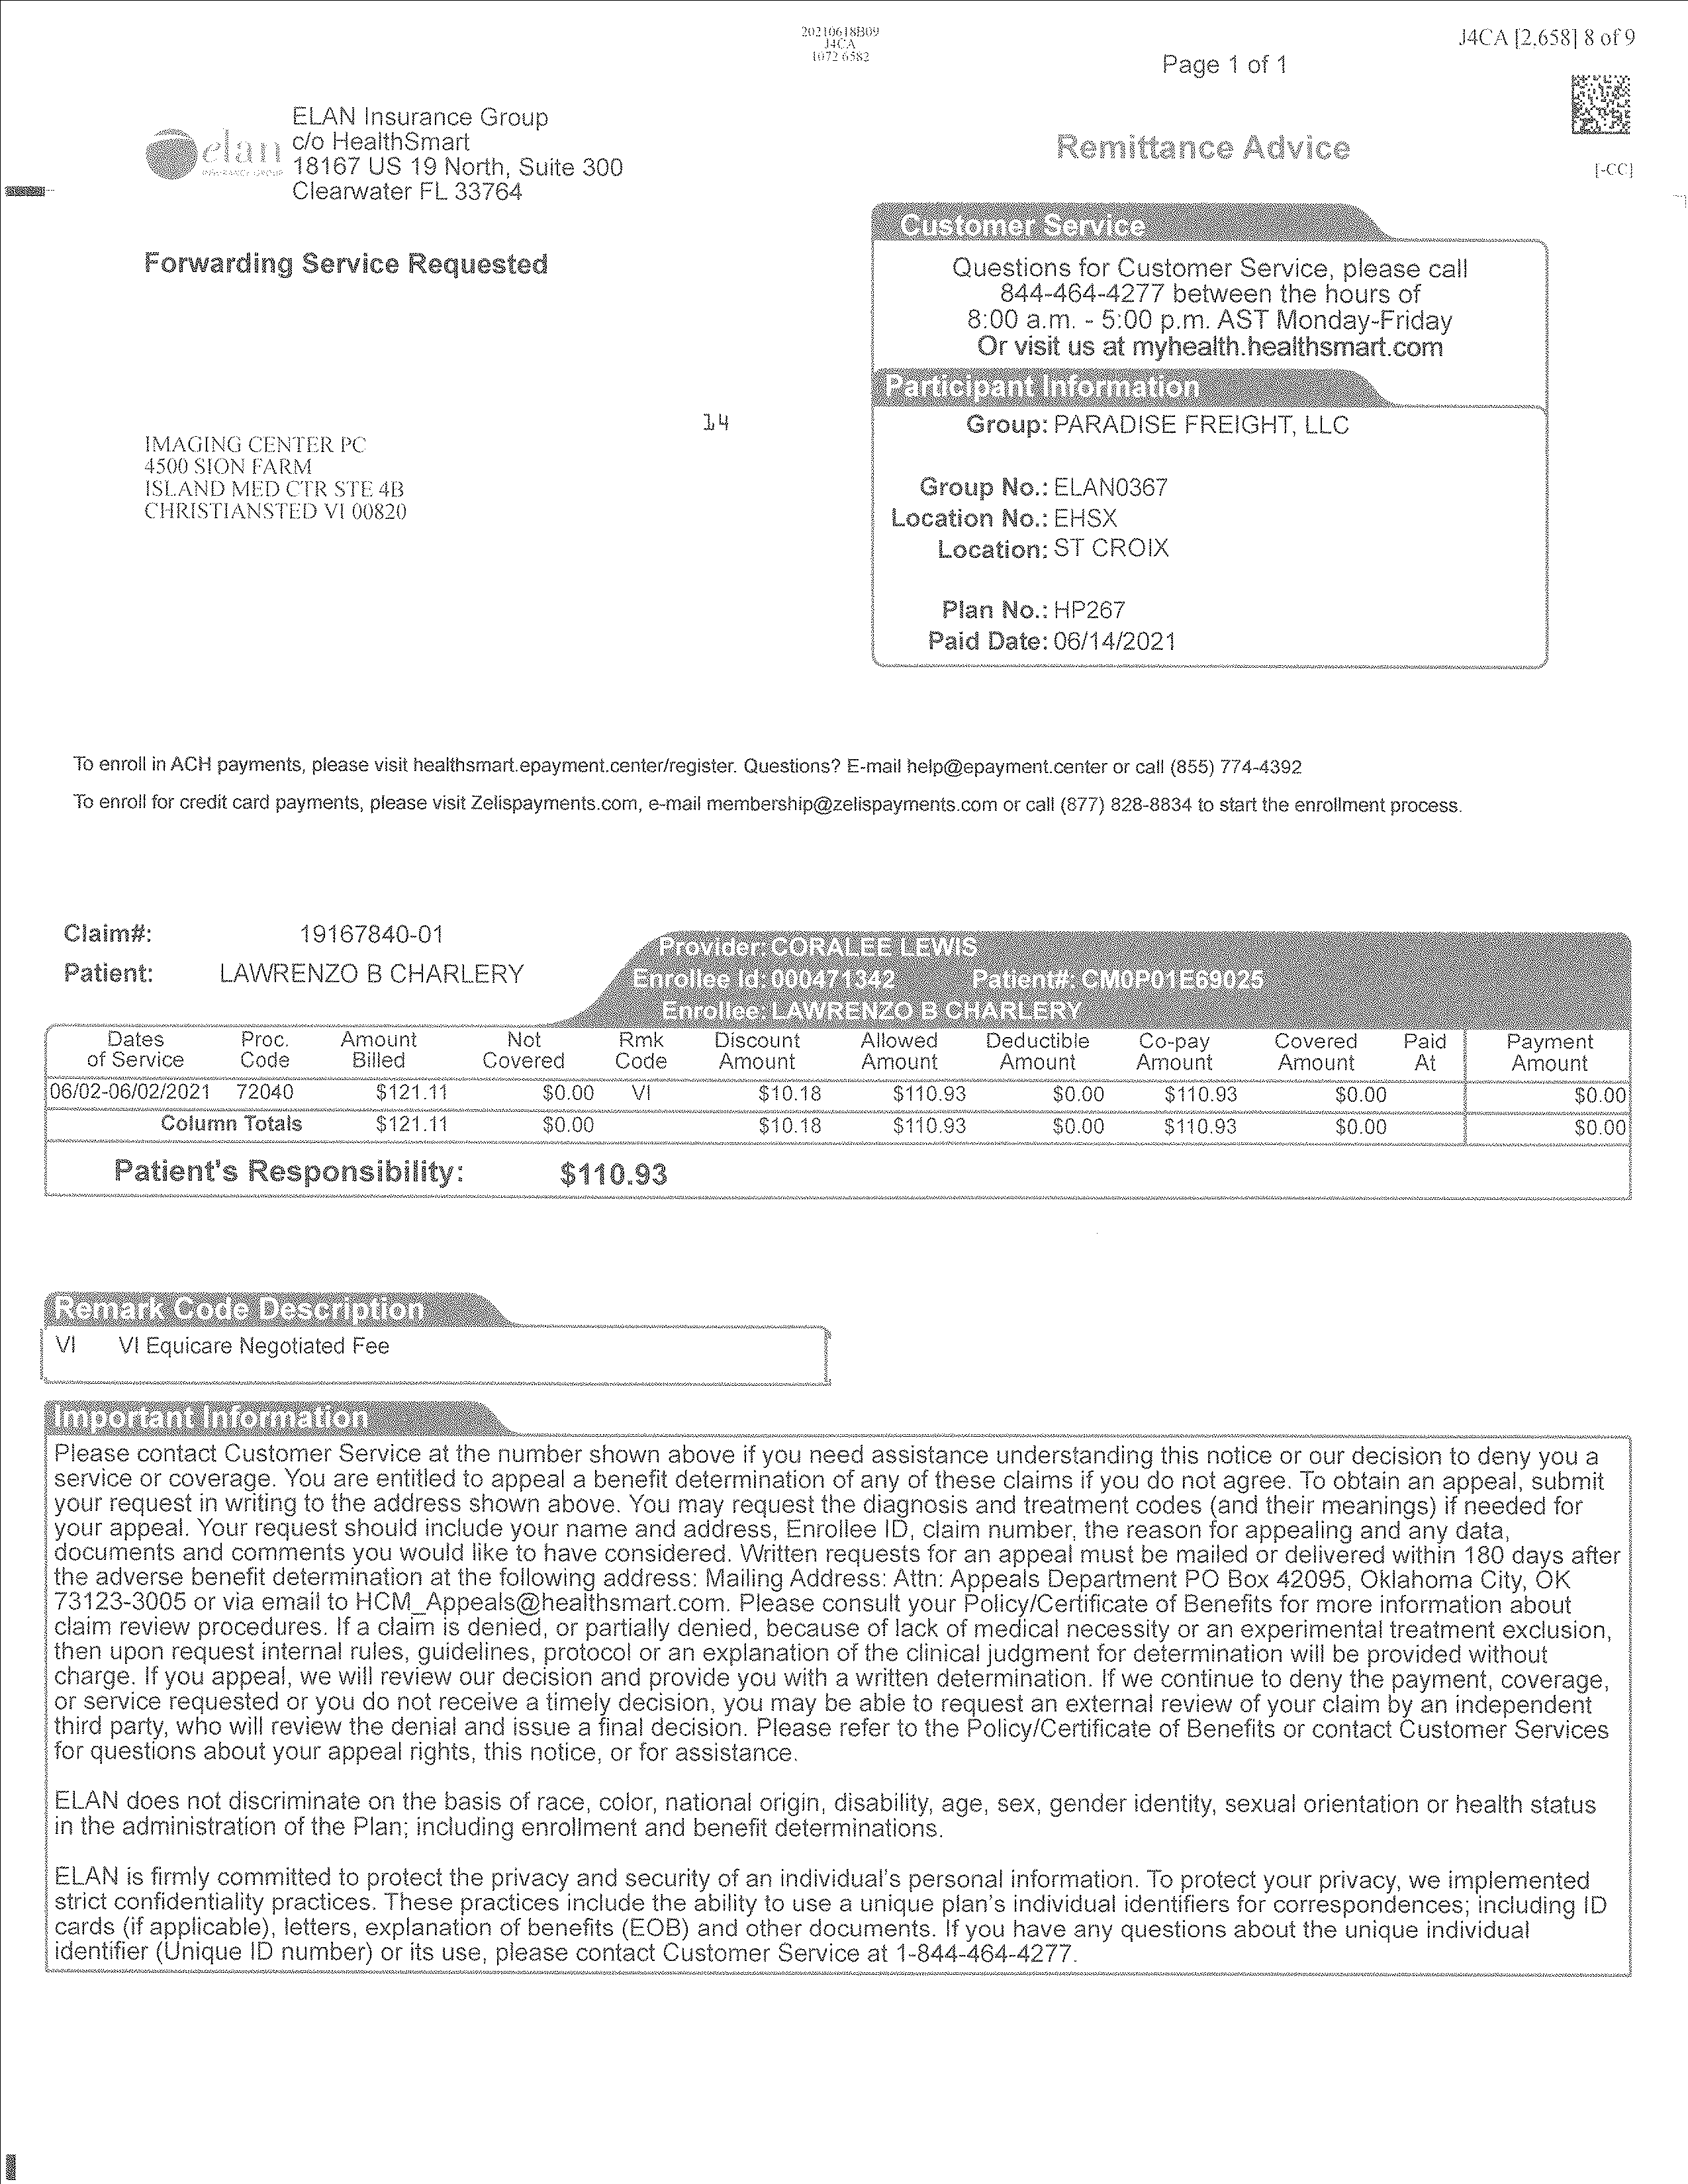data: (835, 181, 1578, 707), (50, 897, 543, 996)
table: (44, 1016, 1645, 1191)
